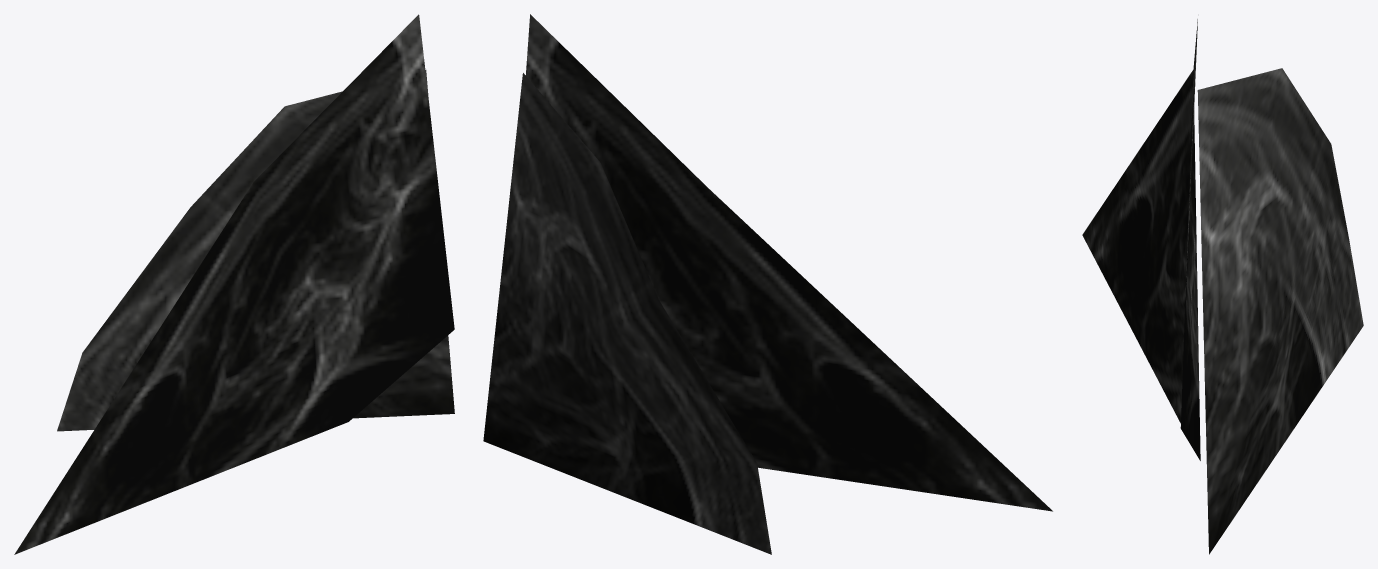
Rendered from SM_CobwebC.FBX.
3 renders of one model, left to right at view 1: azimuth 30°, elevation 25°; view 2: azimuth 150°, elevation 25°; view 3: azimuth 270°, elevation 25°, orthographic. The views are drawn at different scales.
Visible parts, largest first — view 1: SM_CobwebC; view 2: SM_CobwebC; view 3: SM_CobwebC.
Part boxes in pixels (x1,y1,x2,y2): SM_CobwebC: [14, 14, 454, 554]; SM_CobwebC: [483, 14, 1052, 554]; SM_CobwebC: [1082, 19, 1363, 554].
Size of the model in its own units: 20.45 by 16.42 by 8.11.
